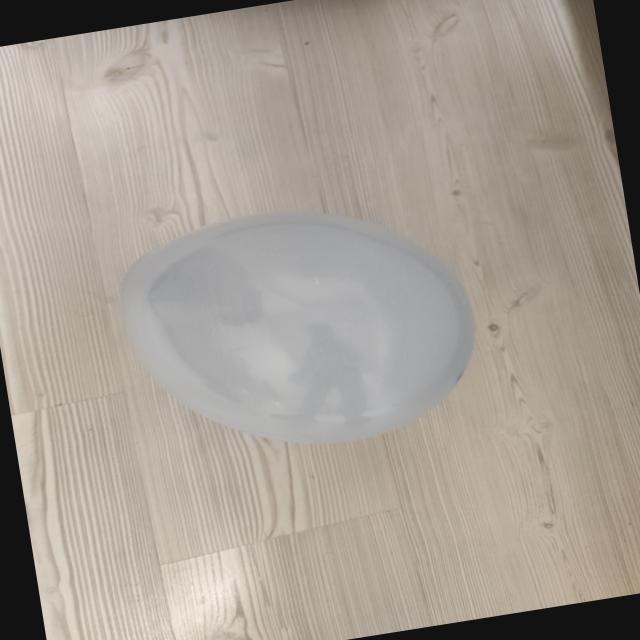balloon: (433, 14, 459, 39)
